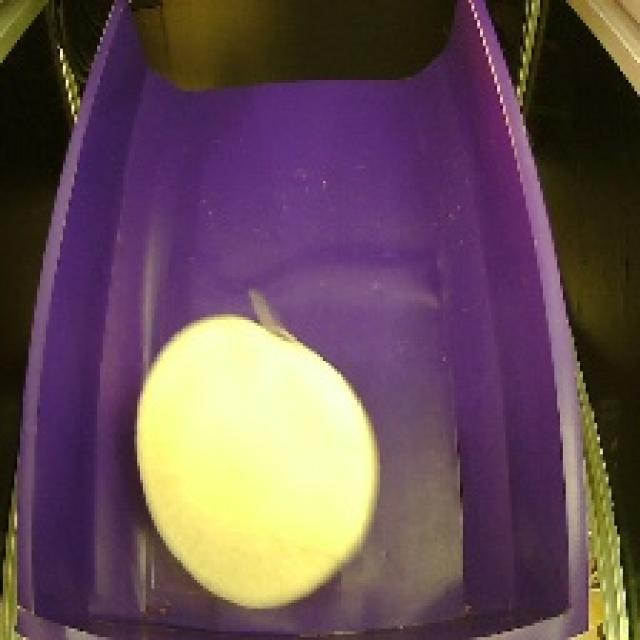white_radish: (120, 280, 378, 624)
